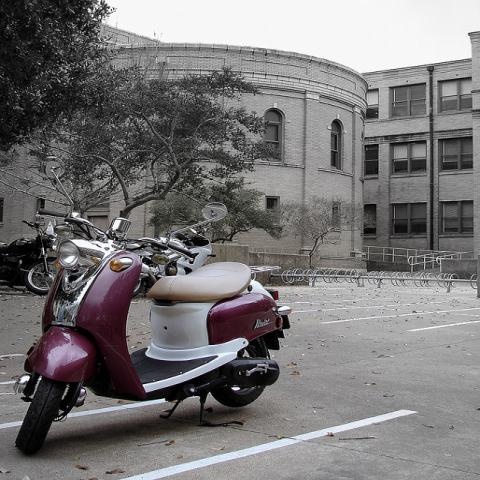motorcycle: (12, 158, 290, 458), (126, 226, 218, 299), (0, 216, 61, 293)
